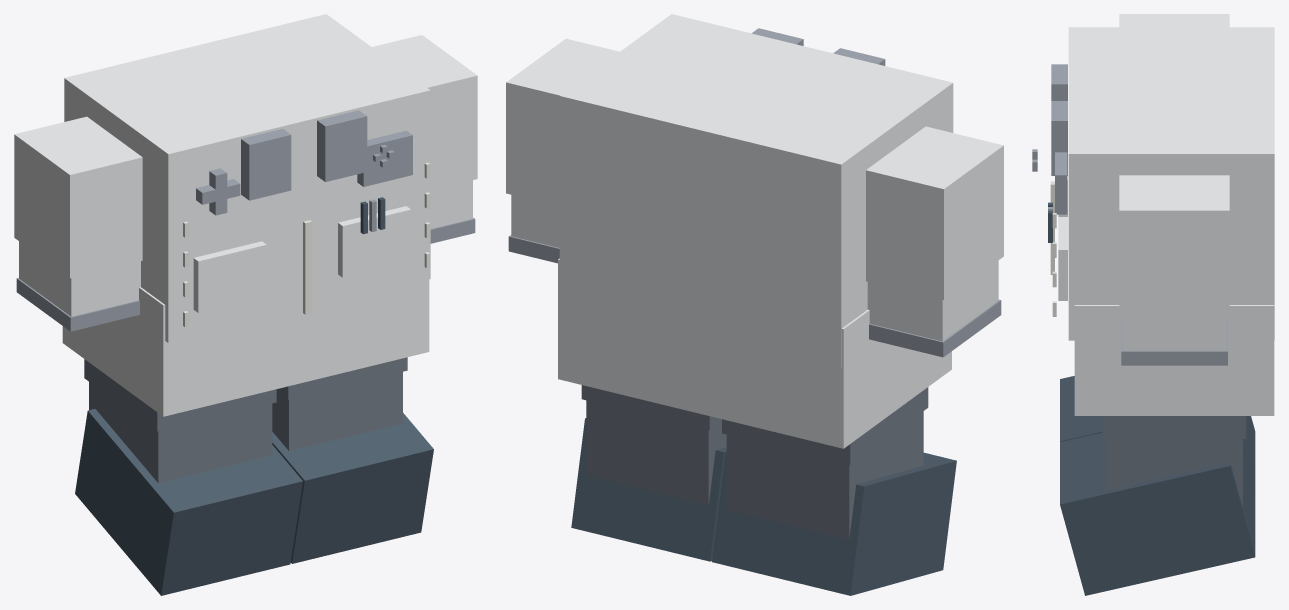
File: pharmacy-slate.glb
The picture shows the model from 3 angles, left to right: view 1: azimuth 30°, elevation 25°; view 2: azimuth 150°, elevation 25°; view 3: azimuth 270°, elevation 25°; orthographic projection. The views are drawn at different scales.
Visible parts, largest first — view 1: jacket, coat-tails, shoe-Right, upper-sleeve-Right, shoe-Left, lower-trouser-Right, upper-sleeve-Left, lower-trouser-Left, lower-sleeve-Right, pocket--1, pocket-1, lapel-1 (+10 smaller); view 2: jacket, coat-tails, upper-sleeve-Right, shoe-Right, lower-trouser-Right, lower-trouser-Left, upper-sleeve-Left, shoe-Left, lower-sleeve-Right, trouser-Right, cuff-Right, lower-sleeve-Left (+2 smaller); view 3: jacket, shoe-Left, coat-tails, upper-sleeve-Left, lower-trouser-Left, lower-sleeve-Left, trouser-Left, shoe-Right, cuff-Left, upper-sleeve-Right, lapel-1, pocket-1 (+2 smaller).
Boxes of the visible parts, <box> form: jacket: <box>64,14,430,342</box>; coat-tails: <box>62,279,429,416</box>; shoe-Right: <box>75,409,302,595</box>; upper-sleeve-Right: <box>14,116,142,278</box>; shoe-Left: <box>272,413,433,563</box>; lower-trouser-Right: <box>89,382,272,482</box>; upper-sleeve-Left: <box>372,35,477,190</box>; lower-trouser-Left: <box>272,372,402,451</box>; lower-sleeve-Right: <box>19,241,140,316</box>; pocket--1: <box>193,241,266,312</box>; pocket-1: <box>338,206,411,277</box>; lapel-1: <box>317,110,367,181</box>; jacket: <box>559,14,953,367</box>; coat-tails: <box>558,258,951,448</box>; upper-sleeve-Right: <box>866,126,1003,300</box>; shoe-Right: <box>712,452,956,595</box>; lower-trouser-Right: <box>726,411,923,539</box>; lower-trouser-Left: <box>586,400,726,505</box>; upper-sleeve-Left: <box>506,38,619,206</box>; shoe-Left: <box>571,418,726,561</box>; lower-sleeve-Right: <box>867,260,998,341</box>; trouser-Right: <box>722,387,928,464</box>; cuff-Right: <box>869,299,1001,357</box>; lower-sleeve-Left: <box>511,195,559,247</box>; jacket: <box>1068,27,1274,340</box>; shoe-Left: <box>1060,432,1255,595</box>; coat-tails: <box>1074,305,1274,415</box>; upper-sleeve-Left: <box>1119,175,1229,312</box>; lower-trouser-Left: <box>1106,439,1242,507</box>; lower-sleeve-Left: <box>1123,312,1225,350</box>; trouser-Left: <box>1102,416,1246,438</box>; shoe-Right: <box>1060,376,1255,493</box>; cuff-Left: <box>1121,318,1227,365</box>; upper-sleeve-Right: <box>1119,14,1229,27</box>; lapel-1: <box>1051,101,1067,175</box>; pocket-1: <box>1058,217,1067,300</box>.
Size of the model in its own units: 1.07 by 1.13 by 0.559.
